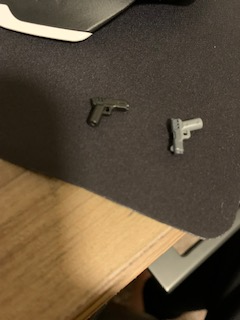pistol: (164, 110, 204, 159), (84, 92, 131, 129)
